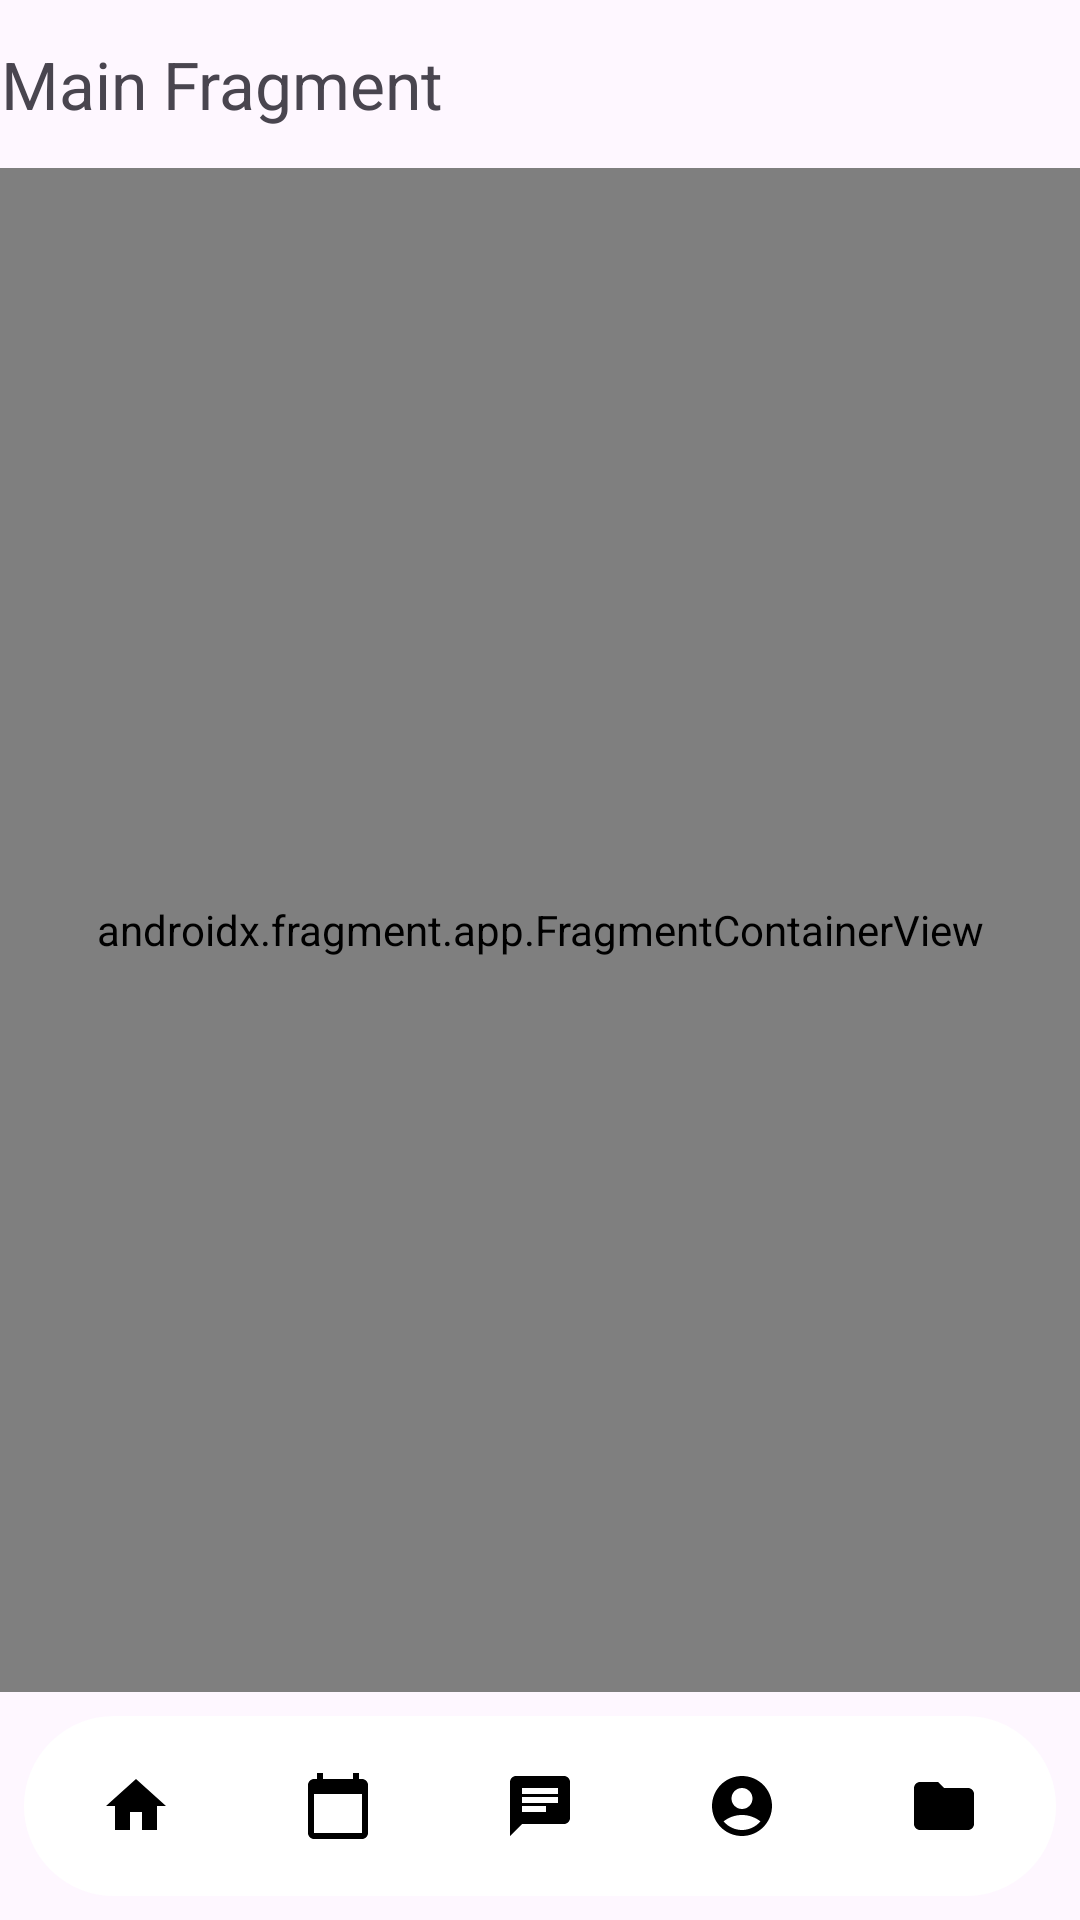

Icons on this 1080px×1920px Android screen, each with the point to tap as (x=x, y=y):
calendar: (x=338, y=1806)
chat: (x=540, y=1806)
home: (x=136, y=1804)
mypage: (x=742, y=1806)
